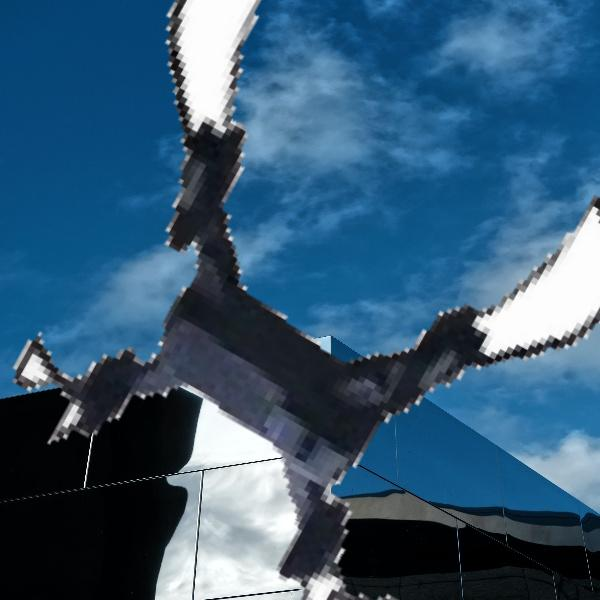drone: (161, 295, 258, 392)
